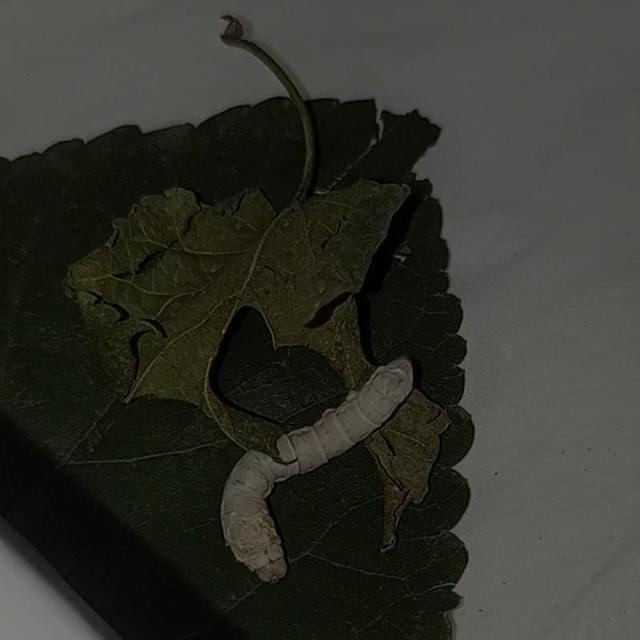Healthy: (205, 348, 419, 596)
